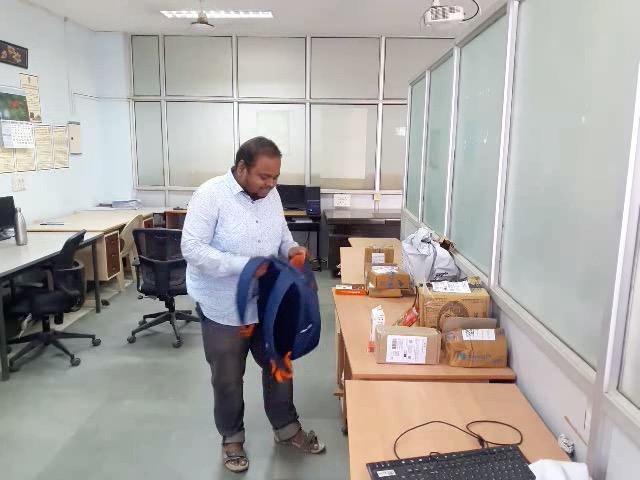shoplifting: (175, 209, 339, 426)
